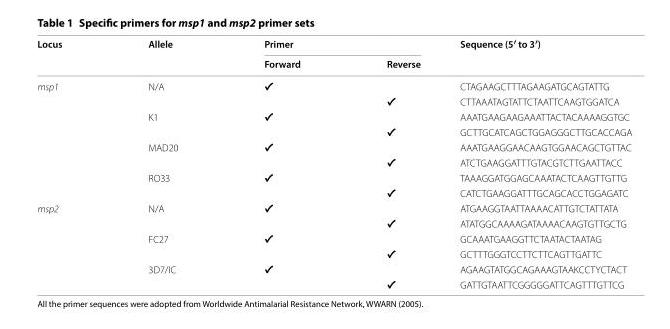table: (36, 36, 631, 290)
table column: (439, 36, 631, 290), (220, 36, 342, 290), (104, 36, 220, 290), (342, 36, 439, 290), (36, 36, 104, 290)
table column header: (36, 36, 631, 74)
table row: (36, 53, 631, 74), (36, 74, 631, 93), (36, 36, 631, 53), (36, 108, 631, 124), (36, 184, 631, 200), (36, 245, 631, 261), (36, 93, 631, 108), (36, 124, 631, 139), (36, 139, 631, 154), (36, 154, 631, 169), (36, 169, 631, 184), (36, 200, 631, 215), (36, 215, 631, 230), (36, 230, 631, 245), (36, 261, 631, 276), (36, 276, 631, 290)
table spanning cell: (36, 74, 104, 200), (439, 36, 631, 74), (36, 200, 104, 290), (104, 36, 220, 74), (104, 74, 220, 108), (220, 36, 439, 53), (104, 108, 220, 139), (104, 169, 220, 200), (104, 139, 220, 169), (36, 36, 104, 74)
